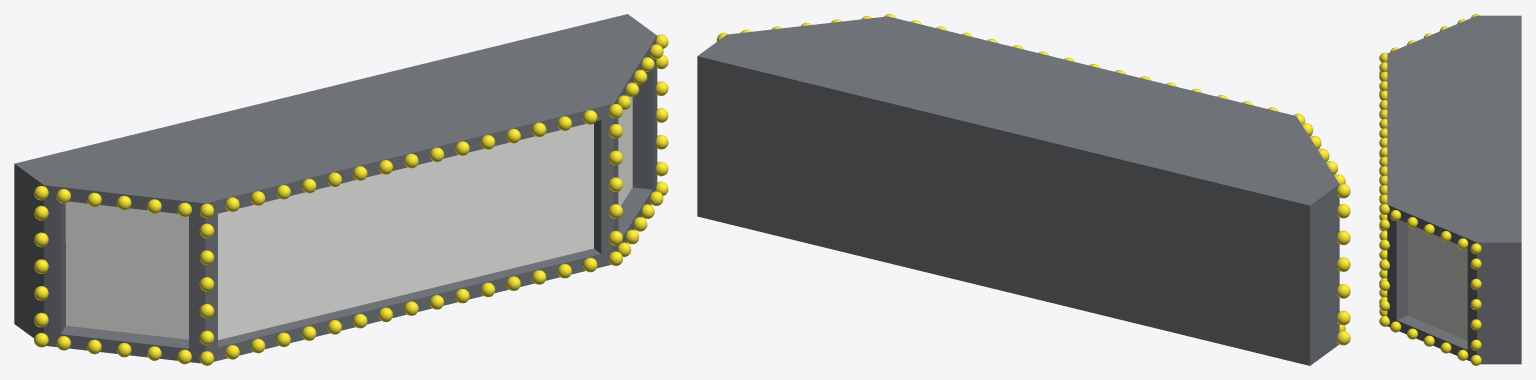
File: Marquee_Sign.fbx
3 views of the same model, side by side, from view 1: azimuth 30°, elevation 25°; view 2: azimuth 150°, elevation 25°; view 3: azimuth 270°, elevation 25° (orthographic). The views are drawn at different scales.
Parts seen in each view (by area): view 1: Marquee Sign; view 2: Marquee Sign; view 3: Marquee Sign.
Boxes of the visible parts, x1,y1,x2,y2 form: Marquee Sign: (14,14,668,365); Marquee Sign: (697,14,1350,365); Marquee Sign: (1379,14,1521,365).
Bounding box in the file's own units: 1238 × 301 × 318.
